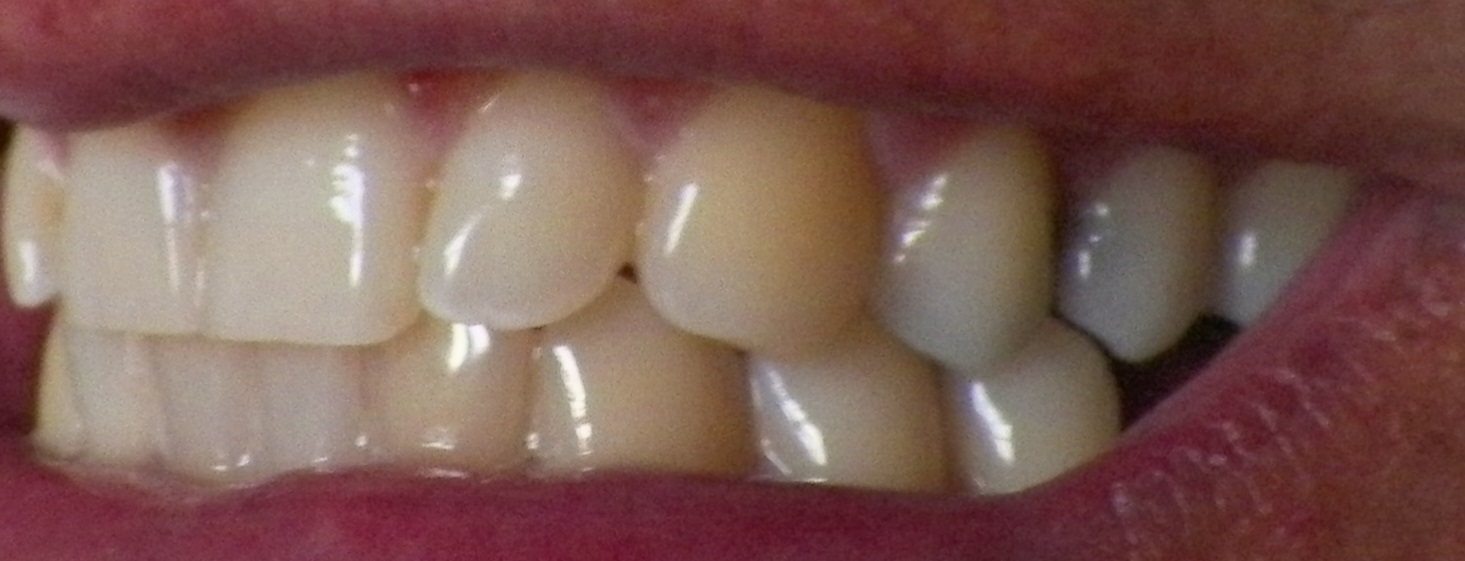boca: (7, 85, 1375, 489)
